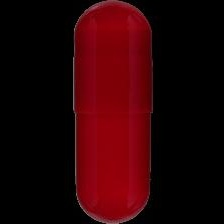65197-003: (0, 0, 224, 224)
